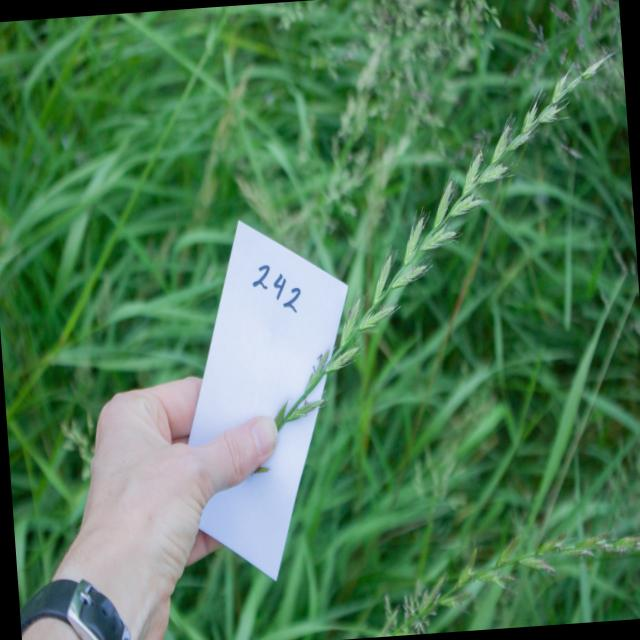Lolium: (234, 34, 640, 448)
